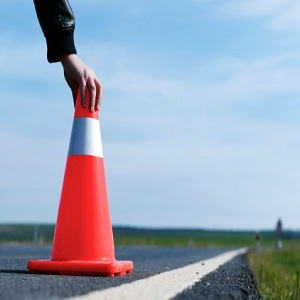traffic cone: (27, 76, 133, 272)
